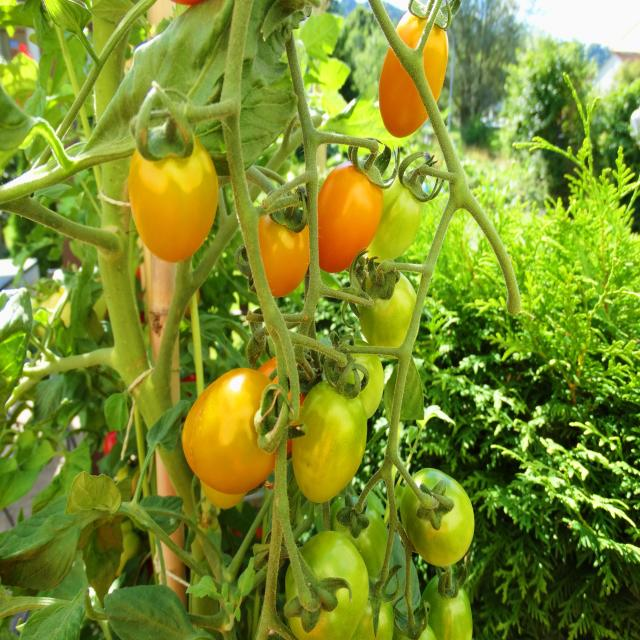fine: (184, 365, 288, 496), (126, 124, 218, 264), (380, 4, 446, 138), (314, 148, 382, 270), (250, 205, 311, 303)
unripe: (288, 373, 368, 505), (293, 526, 367, 640), (411, 467, 474, 568), (352, 262, 418, 356), (369, 179, 428, 268)
